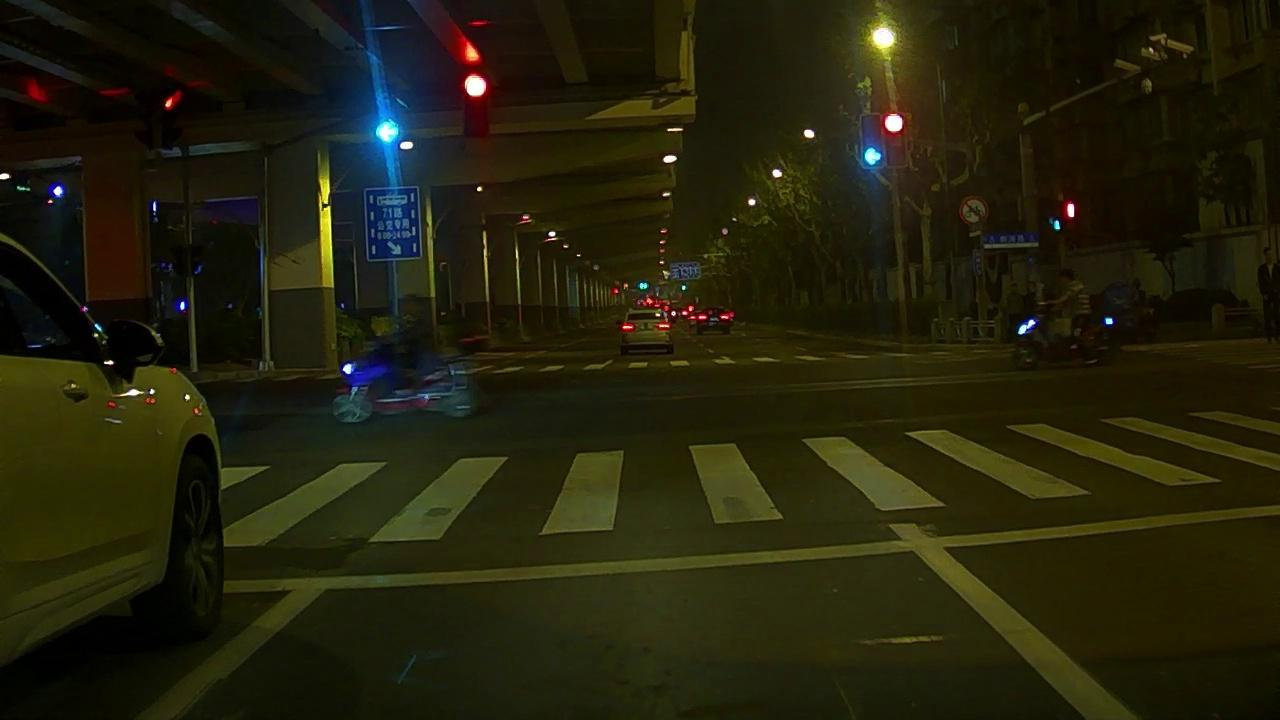traffic_light: (466, 78, 491, 135), (862, 115, 884, 169), (884, 116, 904, 164), (377, 123, 399, 139)
